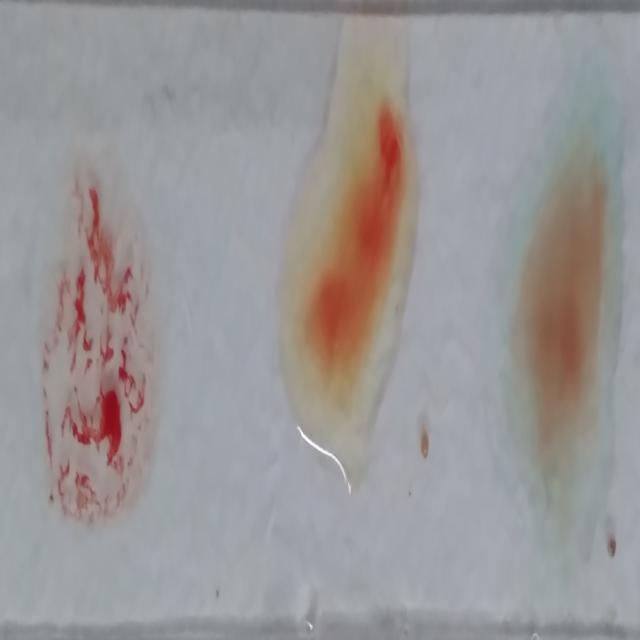D: (40, 160, 150, 546)
